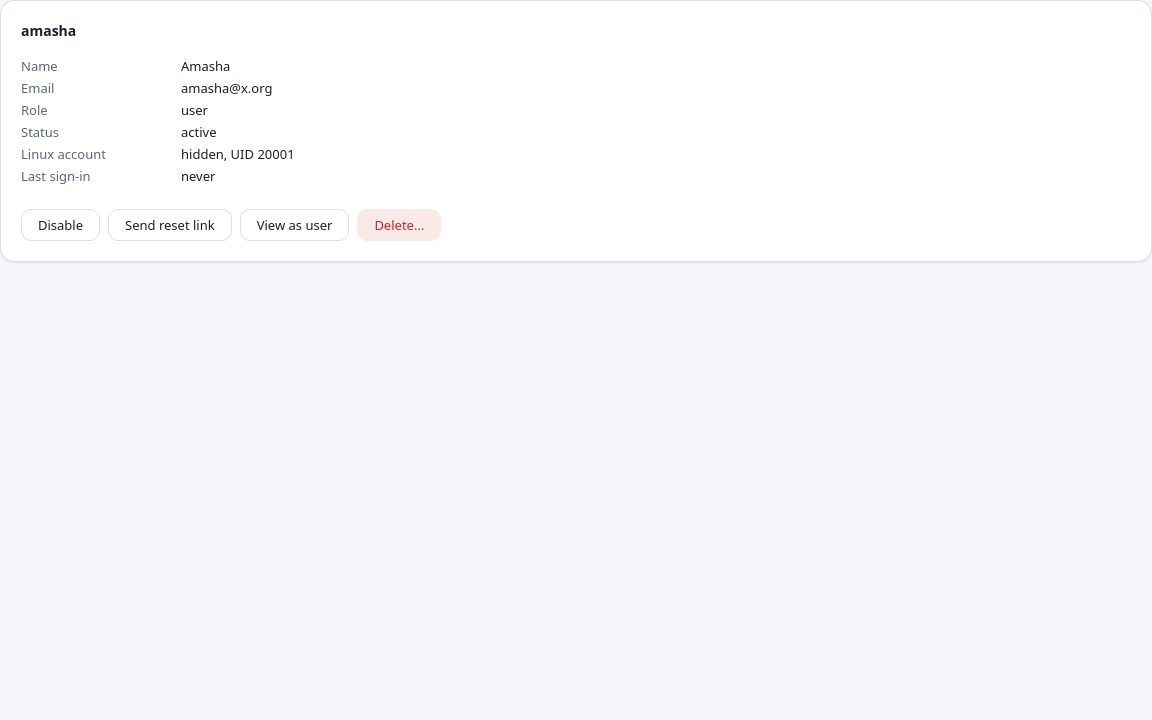
Test: UserDetail delete › keeps purge disabled until the username is typed
Click the button "Delete…" at (399,225), box left=357, top=209, right=441, bottom=241
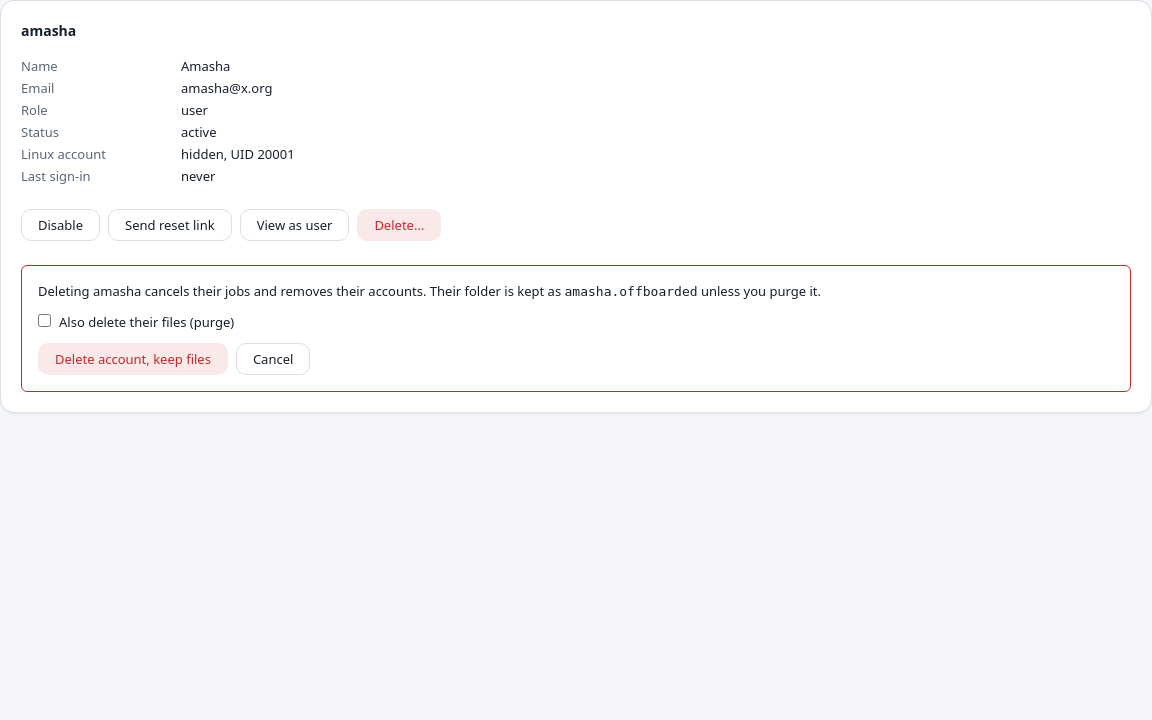
Click the checkbox labelled "Also delete their files (purge)" at (44,320), box left=38, top=314, right=51, bottom=327
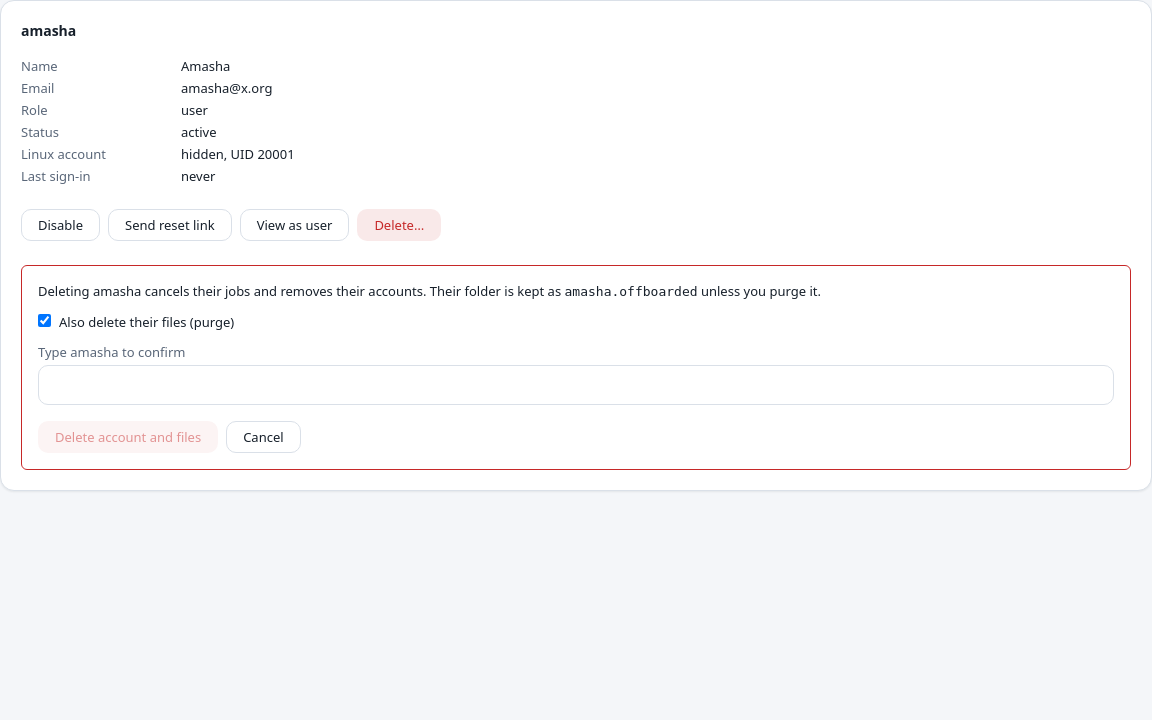
Expected: the button "Delete account and files" is disabled, left=38, top=421, right=218, bottom=453
Type "amash" into the field labelled "Type amasha to confirm" at (576,385), box left=38, top=365, right=1114, bottom=405
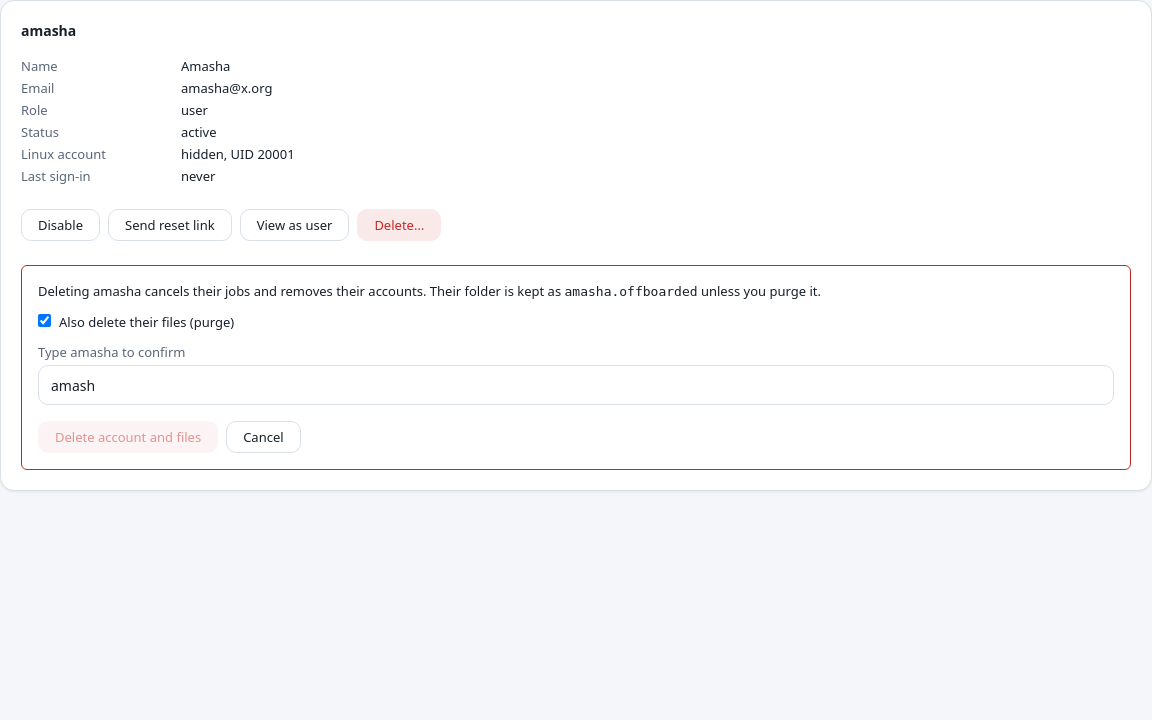
Expected: the button "Delete account and files" is disabled, left=38, top=421, right=218, bottom=453
Replace the text in the field labelled "Type amasha to confirm" with "amasha" at (576,385), box left=38, top=365, right=1114, bottom=405
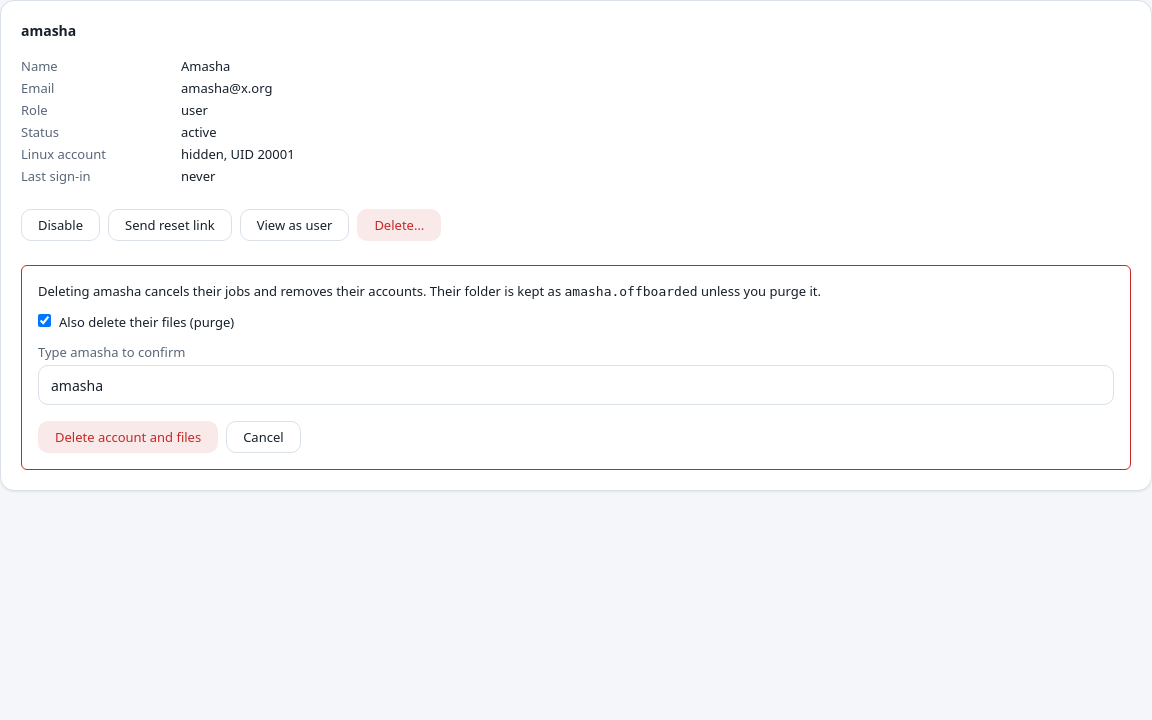
Expected: the button "Delete account and files" is enabled, left=38, top=421, right=218, bottom=453
